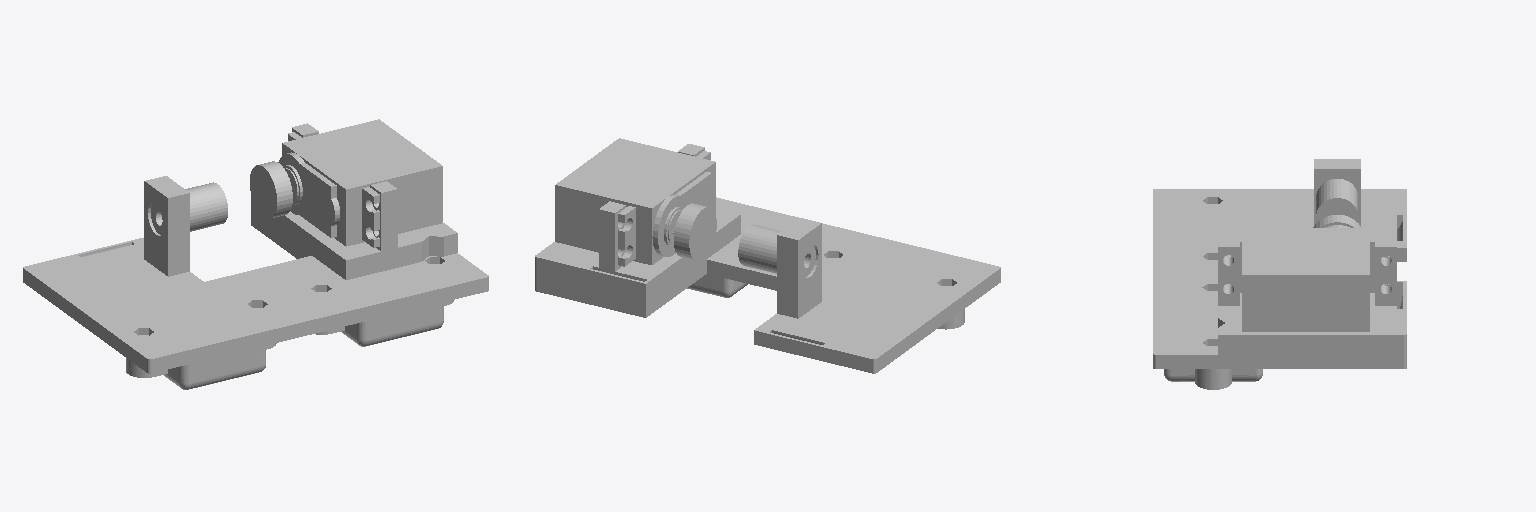
Rendered from virhas_tilt.obj.
3 renders of one model, left to right at view 1: azimuth 30°, elevation 25°; view 2: azimuth 150°, elevation 25°; view 3: azimuth 270°, elevation 25°, orthographic.
Parts seen in each view (by area): view 1: obj_0; view 2: obj_0; view 3: obj_0.
Boxes of the visible parts, x1=… form: obj_0: x1=23, y1=119, x2=488, y2=389; obj_0: x1=535, y1=138, x2=1000, y2=373; obj_0: x1=1153, y1=159, x2=1406, y2=389.
Bounding box in the file's own units: 125 × 44.08 × 80.4.